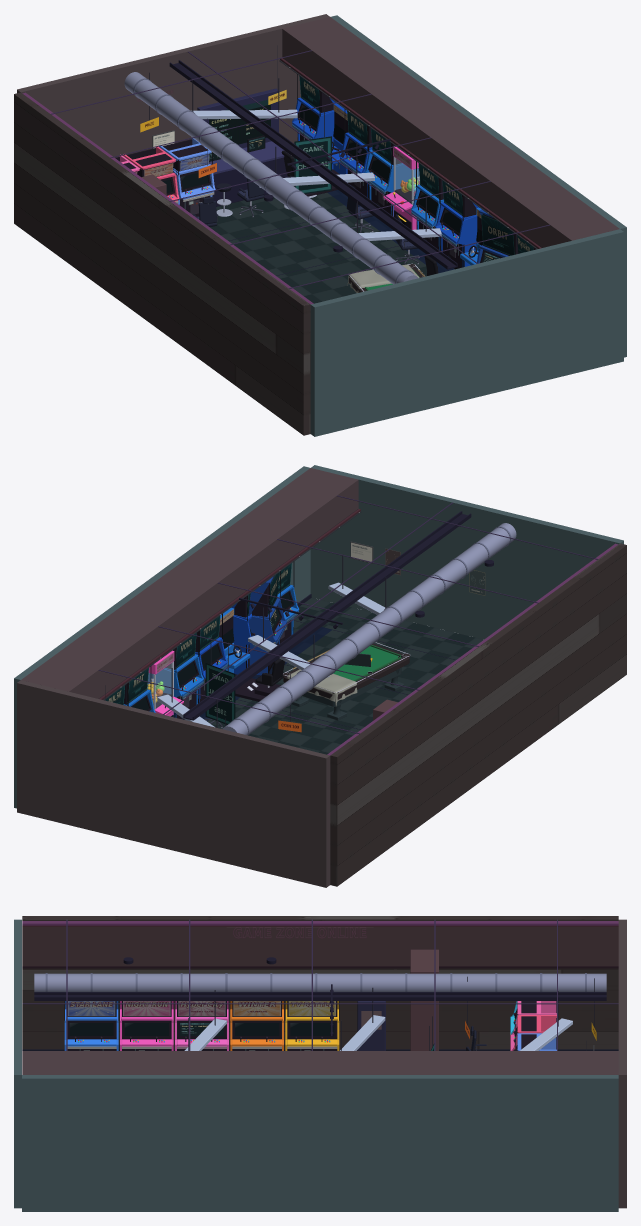
The model's file is game-room-1-day.glb.
3 views of the same model, one above another, from view 1: azimuth 30°, elevation 25°; view 2: azimuth 150°, elevation 25°; view 3: azimuth 270°, elevation 25° (orthographic). The views are drawn at different scales.
Parts seen in each view (by area): view 1: object 59, object 58, object 64, object 60, object 56, object 183, object 185, object 188, object 65, object 121, object 76, object 94 (+20 smaller); view 2: object 60, object 58, object 59, object 64, object 56, object 183, object 185, object 65, object 188, object 117, object 76, object 71 (+12 smaller); view 3: object 59, object 61, object 58, object 64, object 183, object 185, object 69, spot:rig-seven, object 60, object 65, object 73, object 188 (+18 smaller).
Part boxes in pixels (x1,y1,x2,y2): object 59: (310,15,626,436); object 58: (14,92,310,435); object 64: (282,17,619,247); object 60: (17,14,329,157); object 56: (209,157,453,303); object 183: (124,72,418,284); object 185: (169,60,457,269); object 188: (115,90,536,268); object 65: (51,50,549,288); object 121: (292,97,478,266); object 76: (191,109,441,240); object 94: (162,105,482,244); object 60: (17,680,330,887); object 58: (330,543,626,886); object 59: (14,465,623,808); object 64: (21,468,358,698); object 56: (200,598,483,754); object 183: (222,523,516,734); object 185: (183,511,493,720); object 65: (98,495,598,734); object 188: (105,576,291,718); object 117: (123,585,299,717); object 76: (157,582,385,727); object 71: (205,663,235,724); object 59: (14,919,618,1211); object 61: (22,926,618,965); object 58: (22,916,618,1049); object 64: (22,1051,618,1074); object 183: (34,973,606,991); object 185: (34,957,606,1037); object 69: (22,921,618,925); spot:rig-seven: (285,1001,339,1050); object 60: (618,919,626,1208); object 65: (22,919,618,1050); object 73: (410,949,438,1050); object 188: (67,1001,556,1050).
Size of the model in its own units: 9.4 by 3.68 by 15.
Materials: 194 (62 with a texture image).
